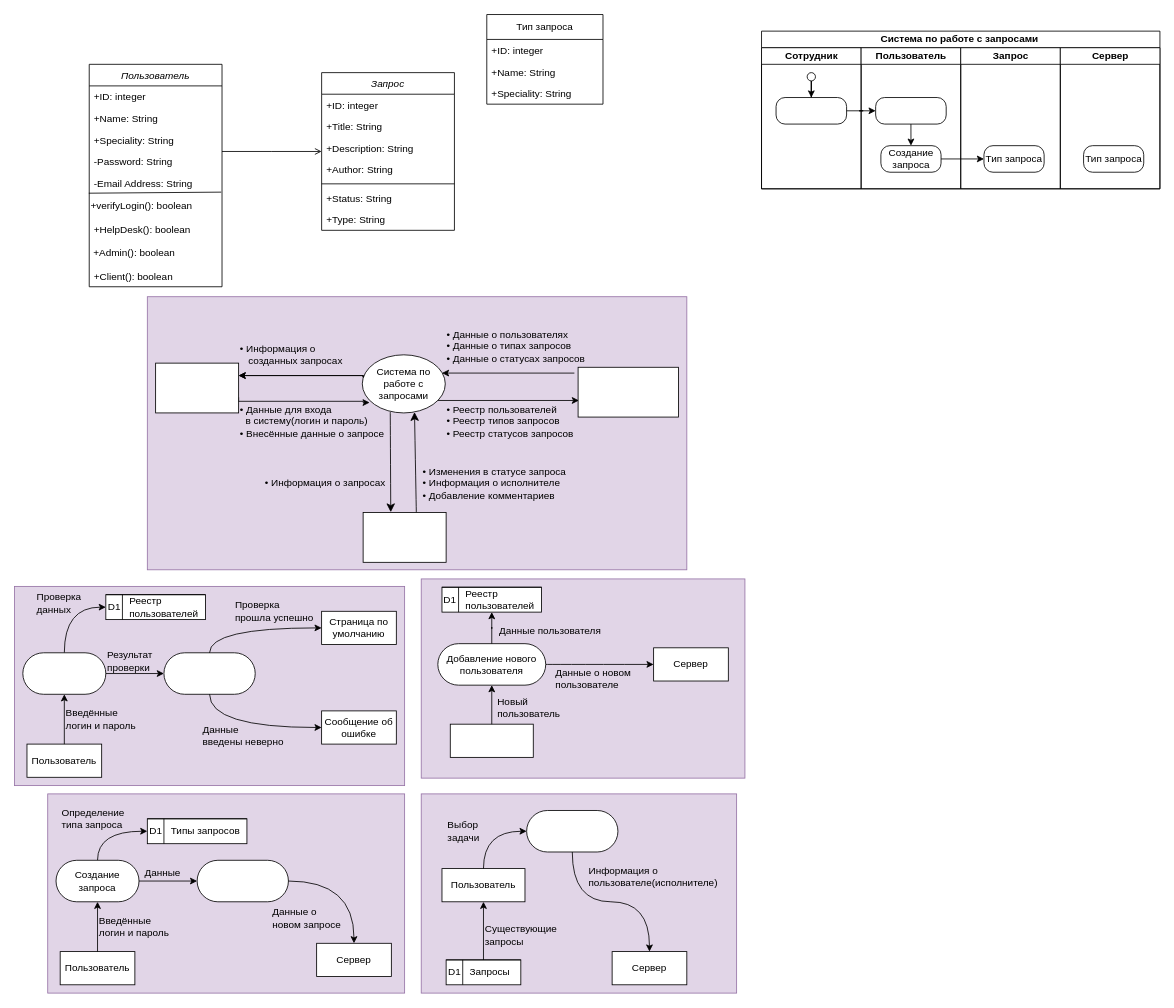
Some shapes in this 1174 by 1008 pixel diagram are drawn without their labels. Here are the shapes that lost their labels. From the top down, the centre of each, then its label:
the point at 811,110: Добавление пользователя
the point at 910,110: Авторизация пользователя
the point at 197,387: Клиент
the point at 628,391: Администрирование
the point at 404,537: Поддержка
the point at 64,673: Авторизация
the point at 209,673: Ответ от сервера
the point at 491,740: Администратор
the point at 572,831: Выбор запроса для выполнения
the point at 242,880: Введены данные
